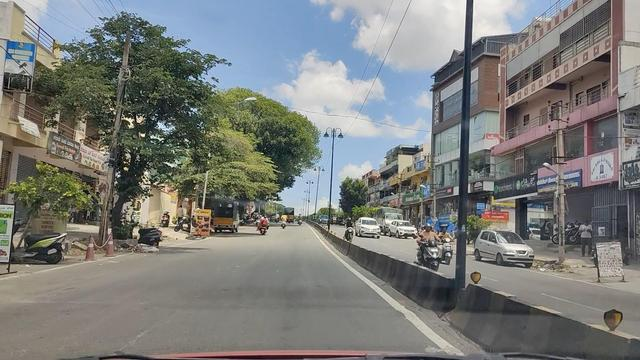HMV: (211, 186, 240, 238)
